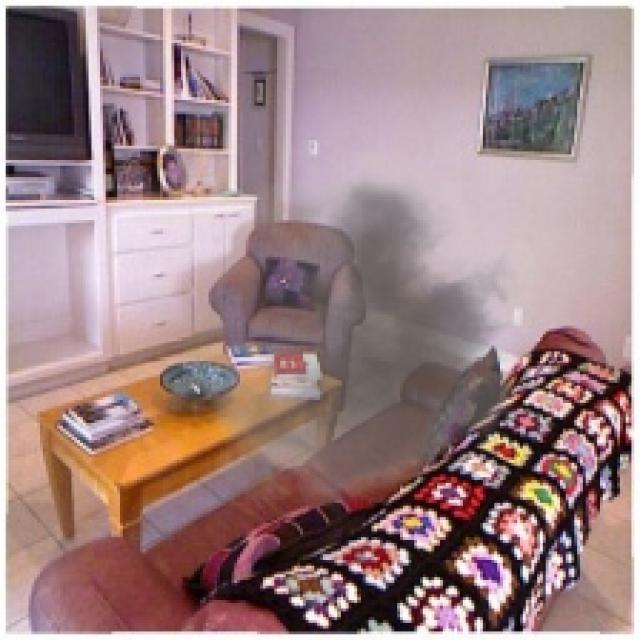Smoke: (152, 148, 557, 520)
